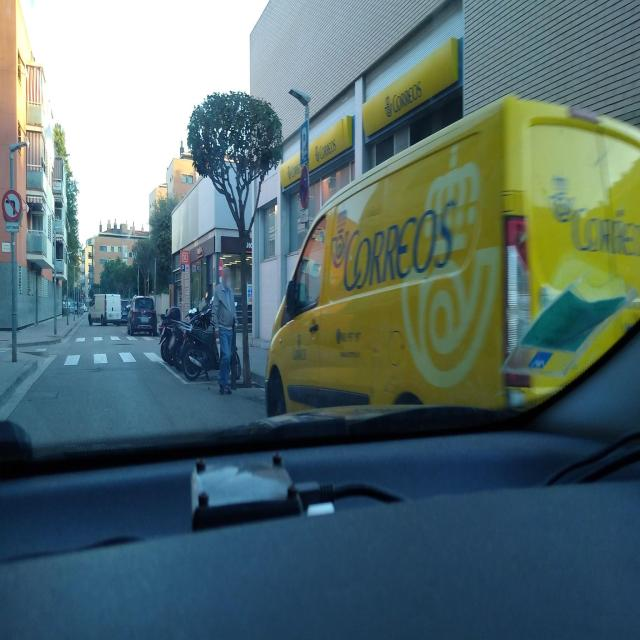forb_stopping: (300, 165, 309, 209)
